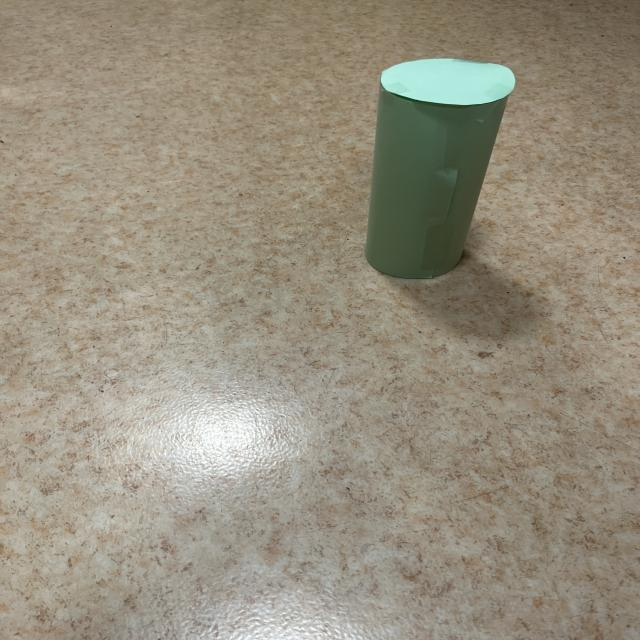meta: (365, 59, 515, 279)
